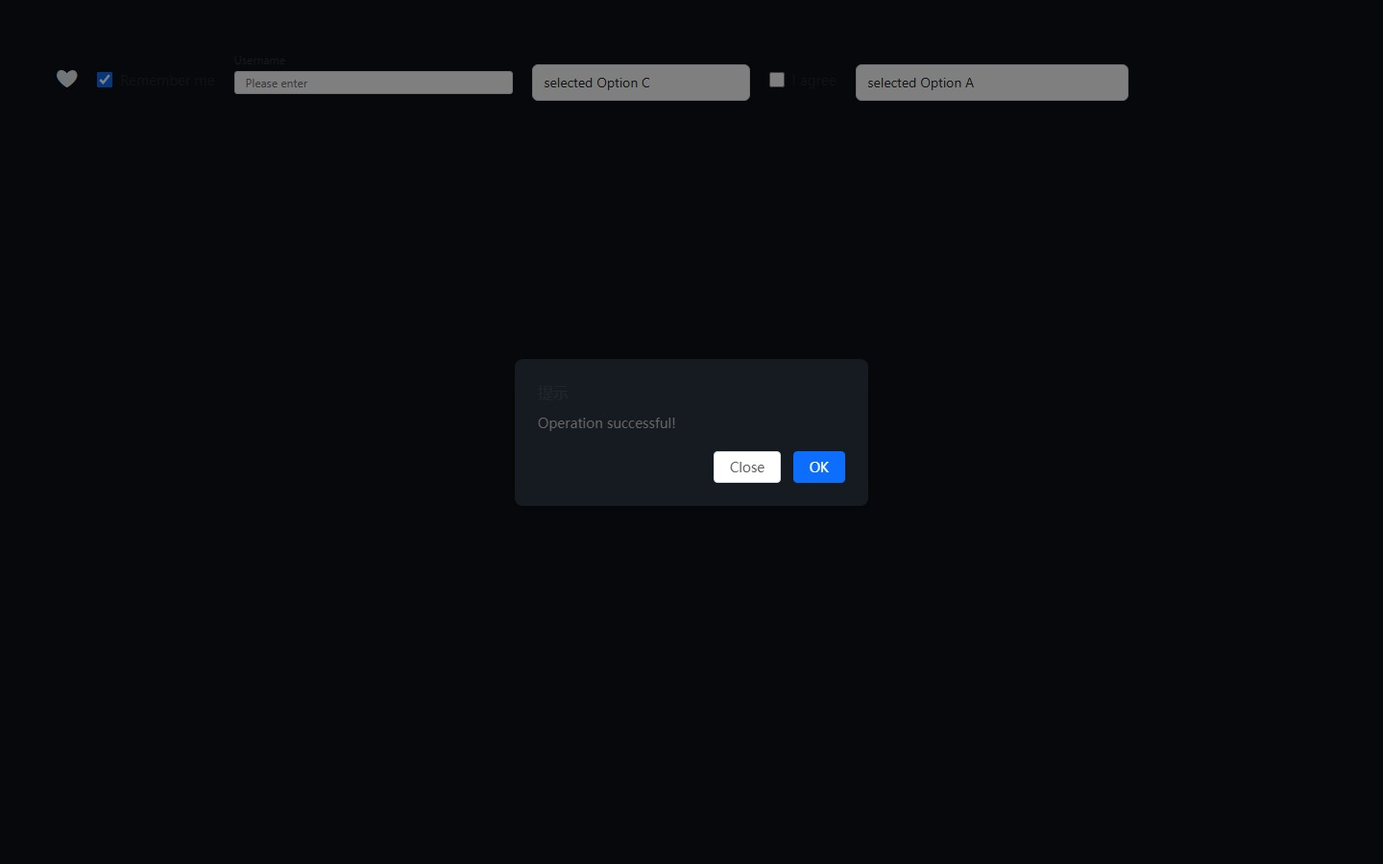button: (713, 451, 781, 482), (793, 451, 845, 482)
checkbox: (97, 72, 113, 87), (769, 72, 784, 87)
icon: (120, 71, 215, 89), (792, 71, 836, 89), (56, 66, 78, 89)
input: (234, 71, 512, 94)
modal: (0, 0, 1383, 864)
radio: (97, 71, 215, 89), (769, 71, 836, 89)
select: (855, 64, 1128, 100), (532, 64, 750, 100)
